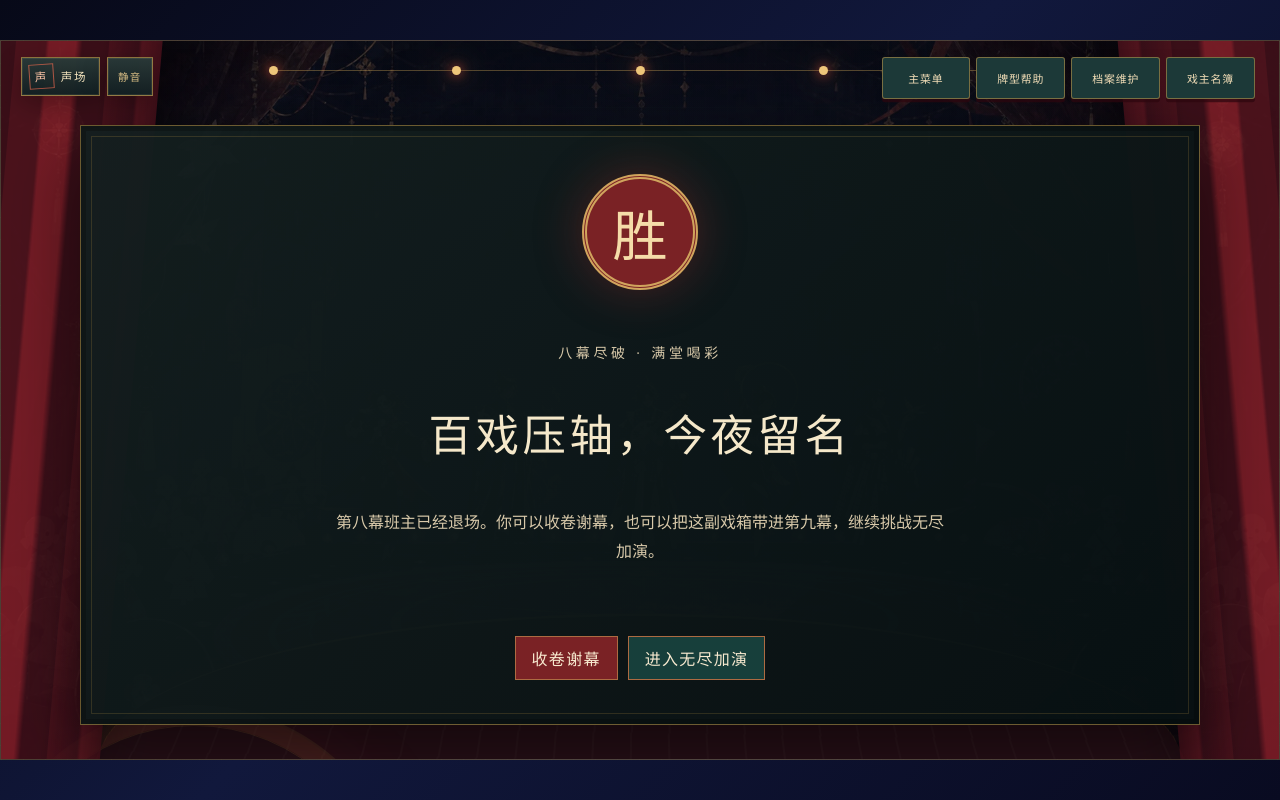
Test: 八幕胜利选择 › 可选择收卷并保存完成结局
Click the button "收卷谢幕": (566, 658) top-left (515, 636), bottom-right (618, 680)
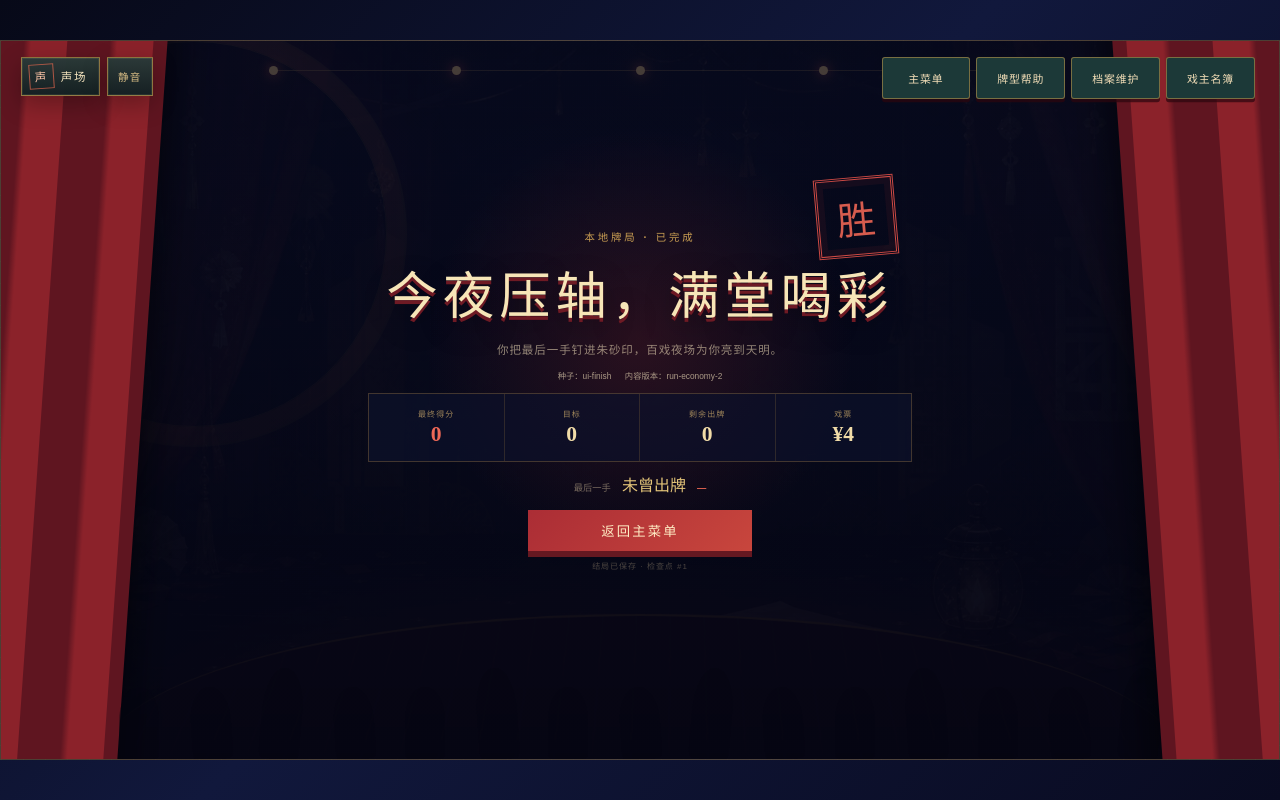
expect the heading "今夜压轴，满堂喝彩" is shown: met, box top-left (387, 255), bottom-right (893, 329)
